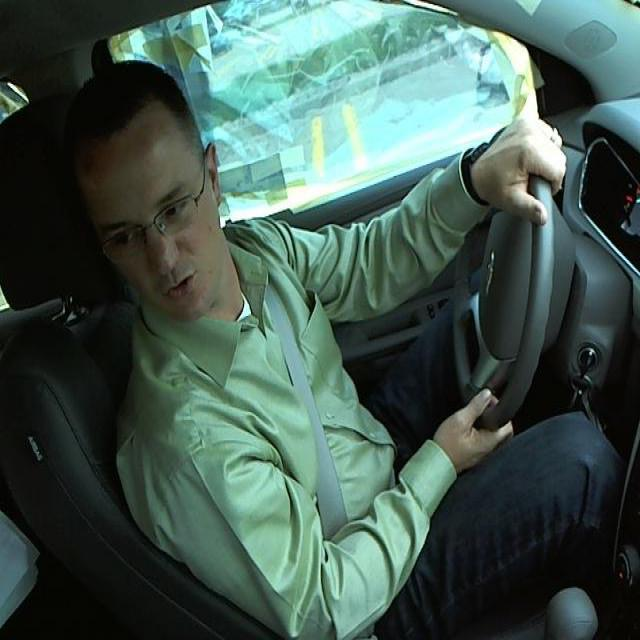seatbelt: (259, 288, 359, 527)
